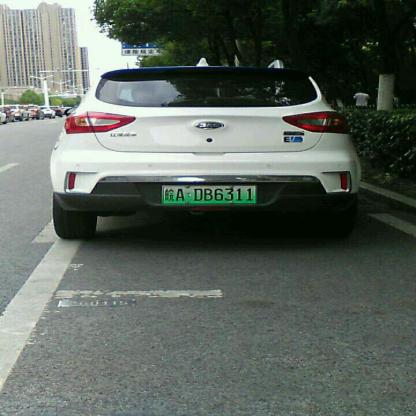lp: (162, 185, 256, 202)
